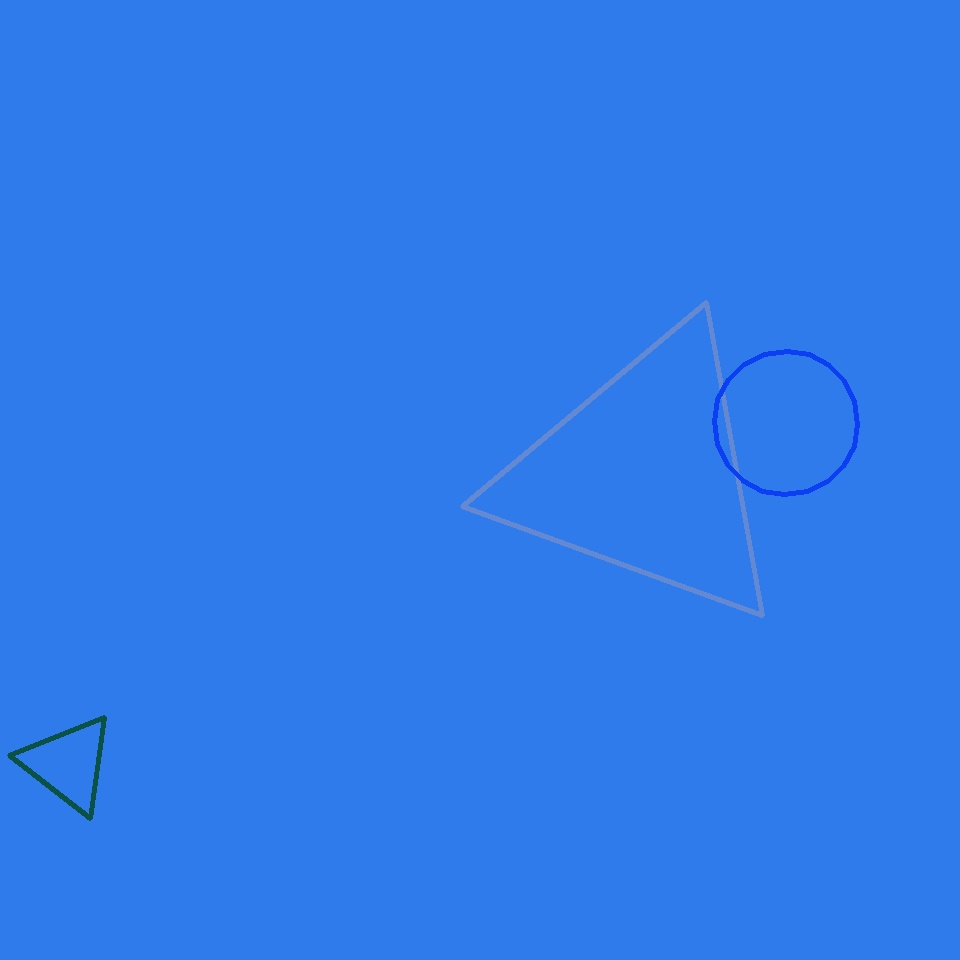circle: (494, 318, 794, 632), (20, 714, 115, 814)
triangle: (714, 352, 858, 494)
